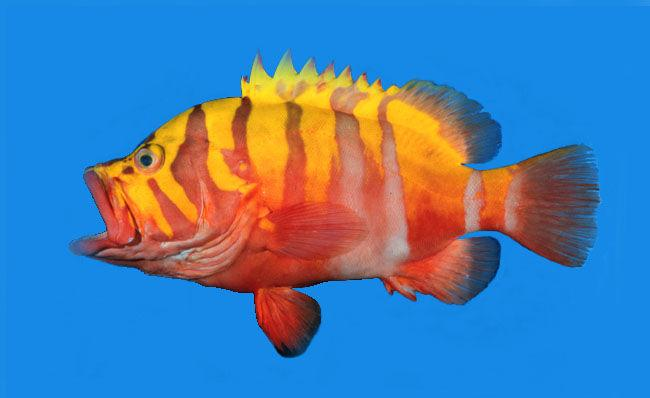fish: (70, 47, 602, 357)
